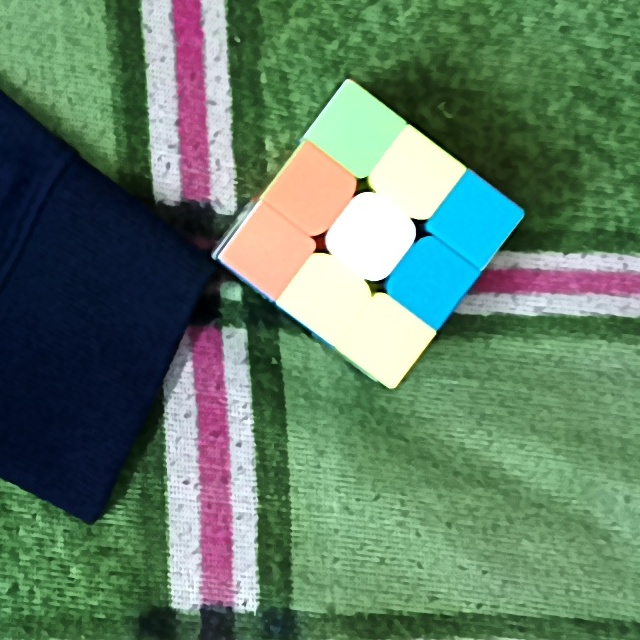tile: (329, 106, 384, 156), (305, 271, 353, 323), (245, 227, 294, 276), (290, 166, 338, 216), (363, 317, 414, 363), (348, 210, 395, 259), (458, 196, 504, 243), (416, 258, 459, 308), (395, 149, 437, 197)
